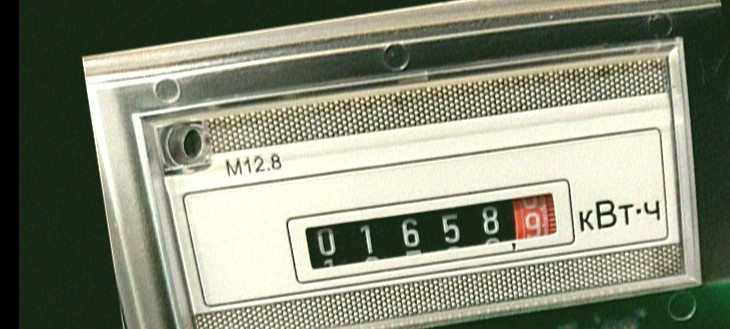0: (314, 225, 339, 257)
1: (357, 222, 379, 256)
5: (439, 211, 464, 245)
6: (399, 214, 424, 250)
8: (479, 202, 503, 236)
9: (521, 209, 545, 240)
screen: (276, 166, 585, 293)
